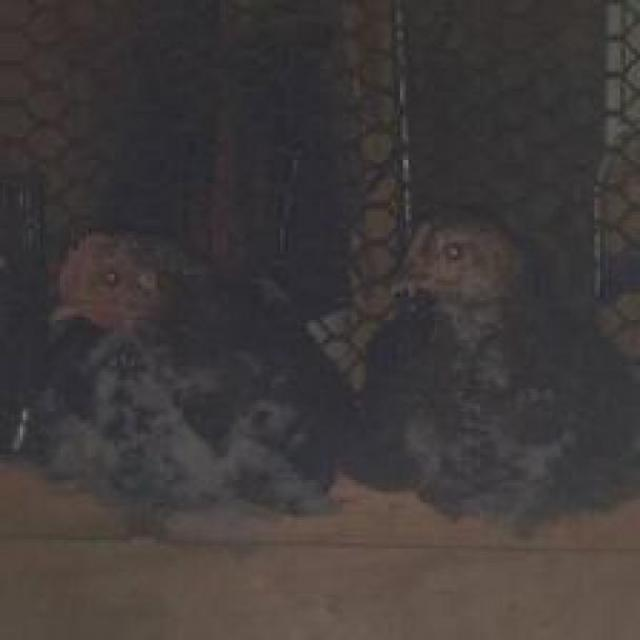Chicken: (7, 193, 302, 555), (324, 210, 640, 544)
